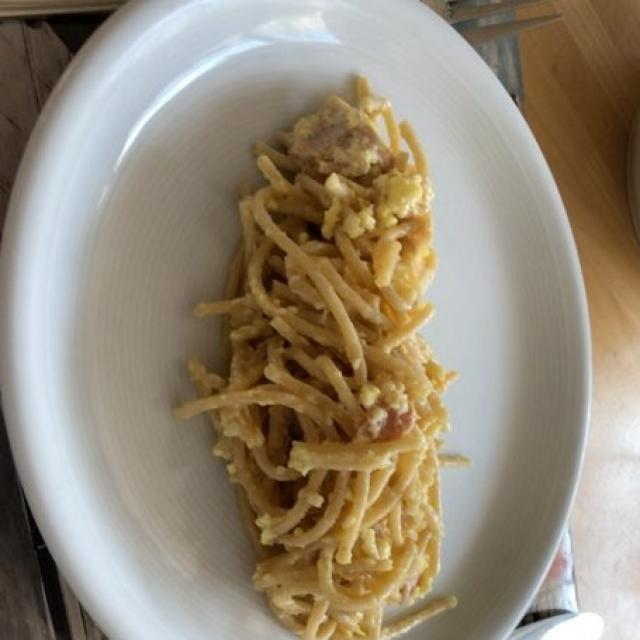pasta: (189, 89, 447, 631)
